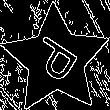P_SE: (26, 30, 86, 89)
